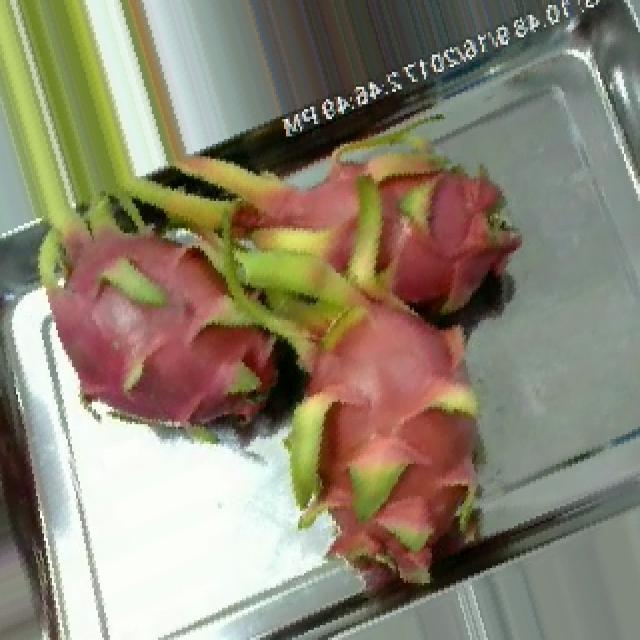Fruit: (348, 139, 544, 345)
